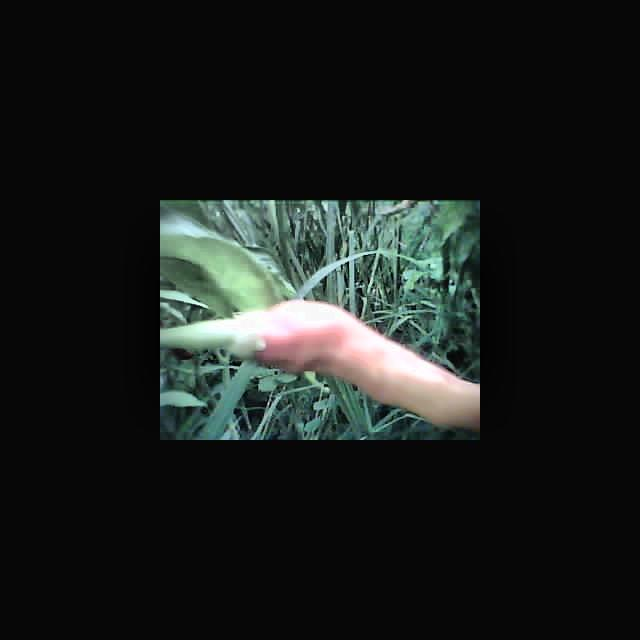Cabai: (218, 300, 480, 414)
